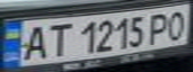1: (75, 18, 100, 54), (112, 16, 133, 50)
2: (93, 16, 118, 53)
5: (127, 12, 151, 47)
A: (15, 22, 54, 61)
O: (163, 7, 193, 42)
P: (145, 10, 175, 45)
T: (39, 20, 75, 57)
